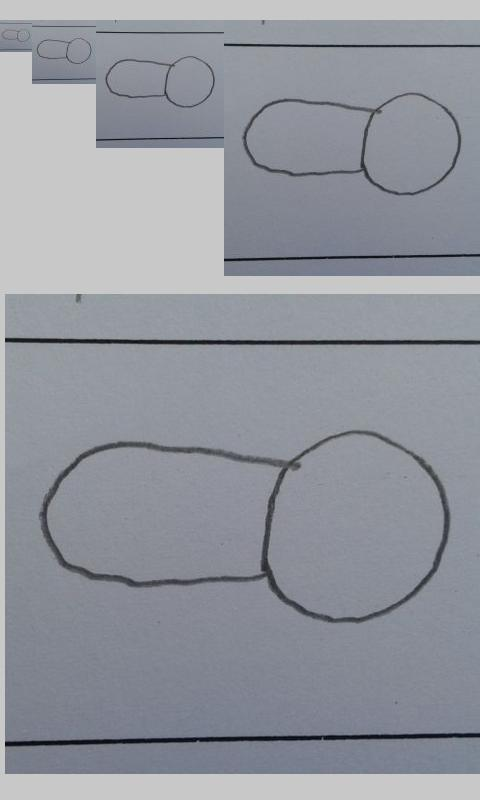switch: (38, 429, 453, 624), (240, 91, 462, 197), (105, 55, 215, 108), (36, 37, 92, 65), (1, 28, 31, 43)
